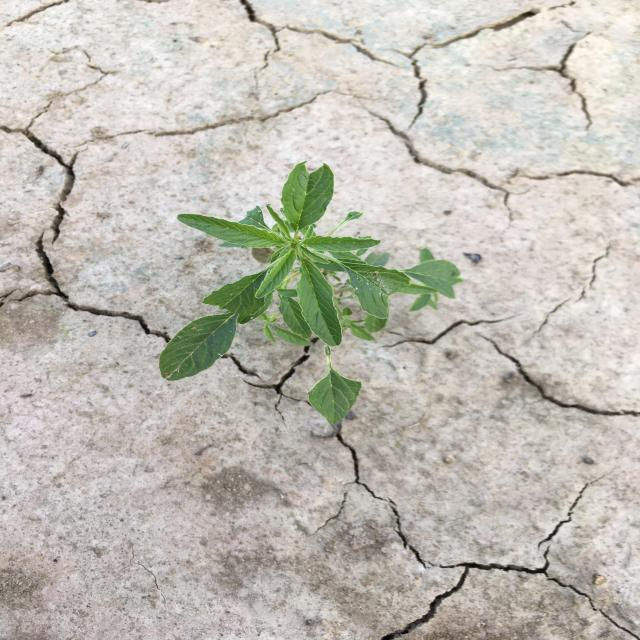Waterhemp: (158, 159, 466, 428)
